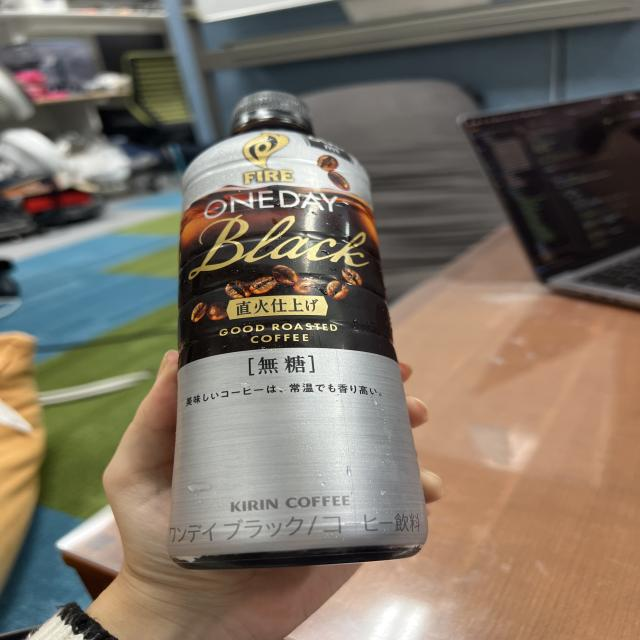coffee-black: (178, 81, 409, 574)
